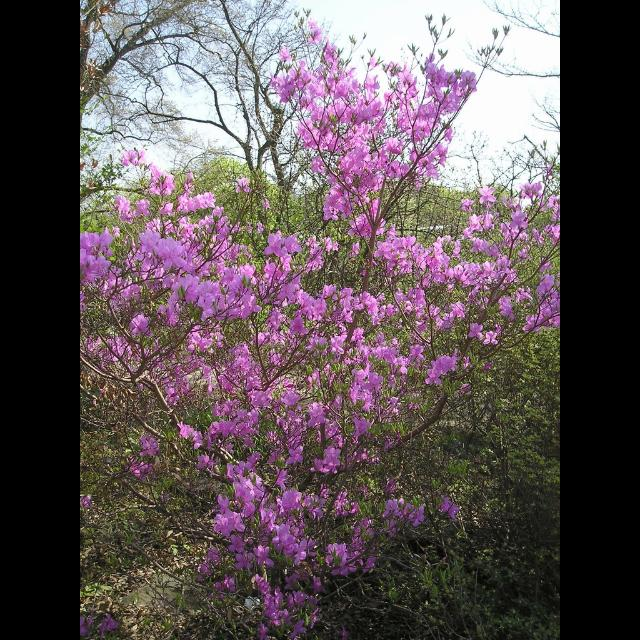Flower: (80, 22, 560, 640), (265, 235, 285, 258)
